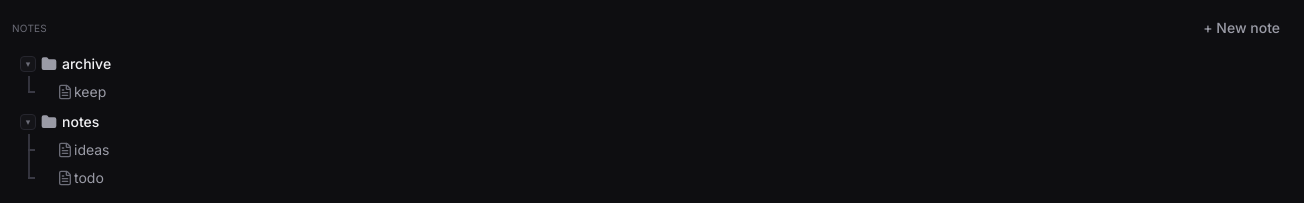
Test: FolderTree rename/move › Escape cancels an inline rename
Double-click the button "ideas" at (92, 150), box [74, 136, 1284, 164]
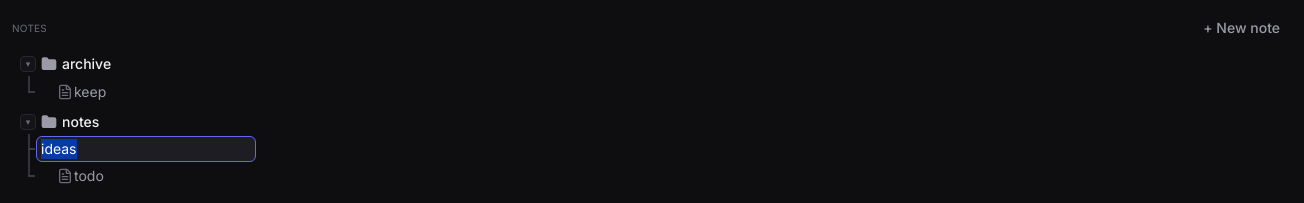
Press Escape in the field, box [36, 136, 256, 162]
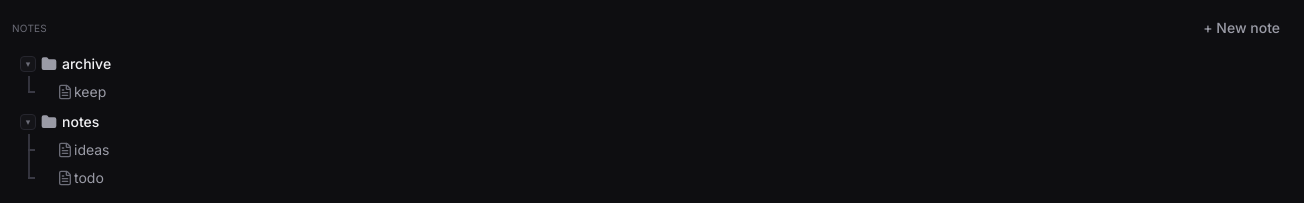
Now the field is gone
